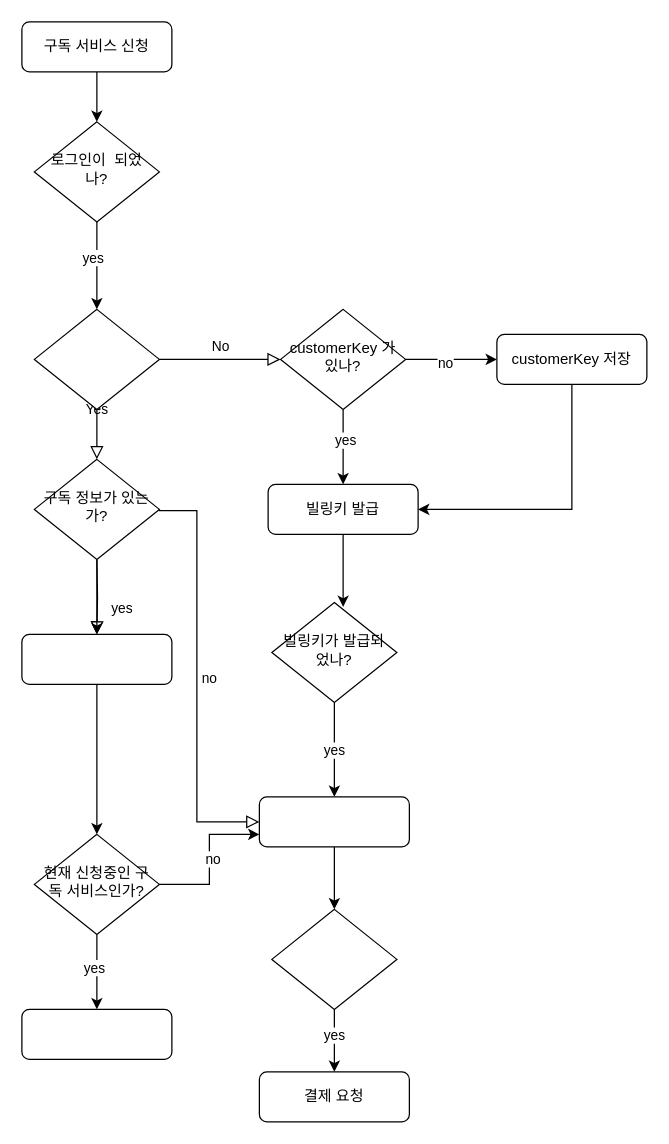
This 669x1144 diagram has some shape labels left out. The shapes that lost their labels are listed below. From the top down, each one's centre as x and y in pixels, then its label:
(x=96, y=358): 빌링키 발급 여부 확인
(x=96, y=658): 구독 정보 반환
(x=333, y=821): 엑세스 토큰 발급 요청
(x=334, y=958): 엑세스 토큰이 발급되었나?
(x=96, y=1033): 이미 구독중임을 알림
